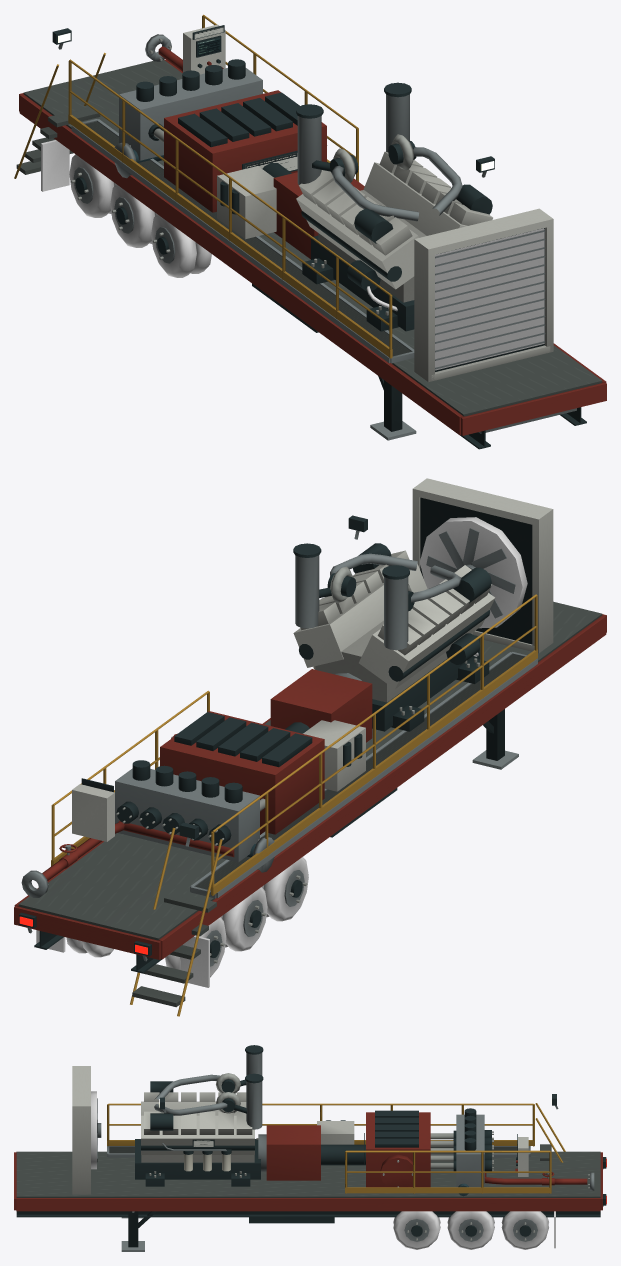
File: frac_pump_truck_single_lodM.glb
The picture shows the model from 3 angles, top to bottom: view 1: azimuth 30°, elevation 25°; view 2: azimuth 150°, elevation 25°; view 3: azimuth 270°, elevation 25°; orthographic projection. The views are drawn at different scales.
Parts seen in each view (by area): view 1: trailer_chassis_oxide, trailer_chassis_deck, radiator_rubber, engine_castings_ivory, handrails_yellow, radiator_ivory, pump_power_end_oxide, running_gear_rubber, pump_fluid_end_steel, pump_power_end_dark, radiator_steel, engine_castings_dark (+17 smaller); view 2: trailer_chassis_deck, engine_castings_ivory, trailer_chassis_oxide, handrails_yellow, pump_power_end_oxide, radiator_ivory, pump_fluid_end_steel, transmission_oxide, radiator_rubber, pump_power_end_dark, running_gear_rubber, engine_castings_dark (+17 smaller); view 3: trailer_chassis_deck, trailer_chassis_oxide, engine_castings_ivory, handrails_yellow, running_gear_rubber, trailer_chassis_dark, pump_power_end_oxide, engine_castings_dark, transmission_oxide, radiator_ivory, pump_power_end_dark, pump_fluid_end_steel (+20 smaller).
Boxes of the visible parts, x1,y1,x2,y2 form: trailer_chassis_oxide: [19, 59, 606, 435]; trailer_chassis_deck: [23, 60, 602, 416]; radiator_rubber: [435, 228, 544, 370]; engine_castings_ivory: [296, 151, 492, 302]; handrails_yellow: [68, 14, 392, 358]; radiator_ivory: [414, 208, 553, 381]; pump_power_end_oxide: [164, 90, 326, 212]; running_gear_rubber: [69, 154, 211, 277]; pump_fluid_end_steel: [119, 68, 262, 160]; pump_power_end_dark: [178, 92, 299, 171]; radiator_steel: [435, 230, 545, 369]; engine_castings_dark: [301, 211, 414, 331]; trailer_chassis_deck: [18, 601, 602, 940]; engine_castings_ivory: [293, 550, 494, 702]; trailer_chassis_oxide: [14, 614, 606, 959]; handrails_yellow: [51, 594, 537, 895]; pump_power_end_oxide: [160, 711, 324, 834]; radiator_ivory: [412, 478, 553, 653]; pump_fluid_end_steel: [115, 768, 259, 862]; transmission_oxide: [270, 669, 372, 742]; radiator_rubber: [419, 517, 527, 628]; pump_power_end_dark: [174, 712, 312, 767]; running_gear_rubber: [66, 857, 308, 977]; engine_castings_dark: [299, 610, 489, 731]; trailer_chassis_deck: [16, 1151, 600, 1197]; trailer_chassis_oxide: [14, 1152, 602, 1211]; engine_castings_ivory: [141, 1092, 254, 1162]; handrails_yellow: [107, 1103, 551, 1193]; running_gear_rubber: [393, 1211, 548, 1249]; trailer_chassis_dark: [16, 1211, 600, 1217]; pump_power_end_oxide: [366, 1112, 430, 1187]; engine_castings_dark: [135, 1139, 260, 1186]; transmission_oxide: [266, 1125, 320, 1180]; radiator_ivory: [72, 1066, 90, 1194]; pump_power_end_dark: [364, 1110, 418, 1164]; pump_fluid_end_steel: [456, 1114, 484, 1187].
Size of the model in its own units: 3.14 by 4.42 by 14.21.
Materials: 14 (14 with a texture image).
